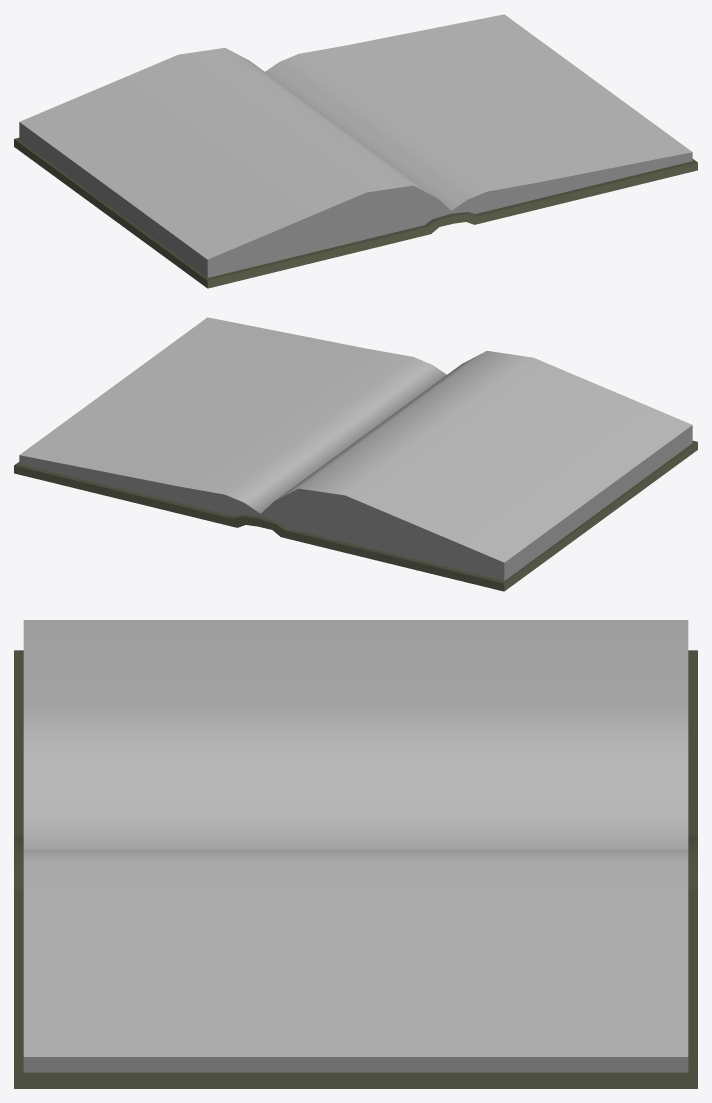
File: human-household-items-book_v9.glb
3 renders of one model, top to bottom at view 1: azimuth 30°, elevation 25°; view 2: azimuth 150°, elevation 25°; view 3: azimuth 270°, elevation 25°, orthographic. The views are drawn at different scales.
Visible parts, largest first — view 1: Book_v9; view 2: Book_v9; view 3: Book_v9.
Boxes of the visible parts, bbox=[...] form: Book_v9: bbox=[14, 14, 697, 288]; Book_v9: bbox=[14, 317, 697, 591]; Book_v9: bbox=[14, 620, 697, 1088].
Size of the model in its own units: 0.25 by 0.0274 by 0.1711.
